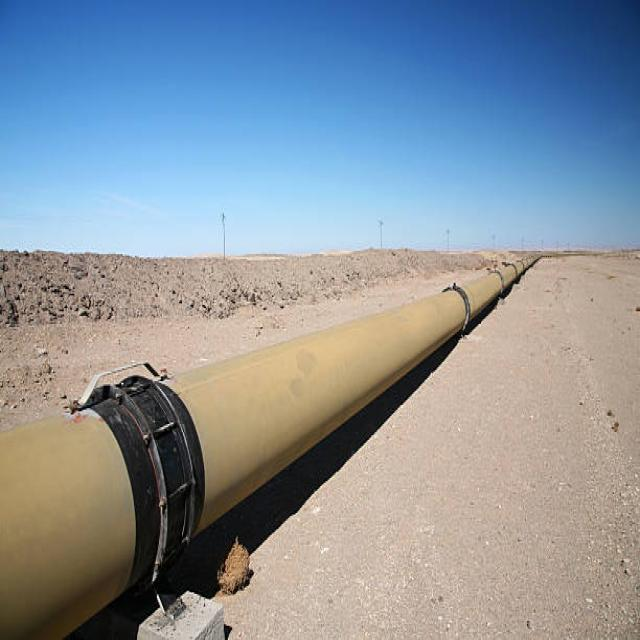gas: (0, 258, 535, 637)
